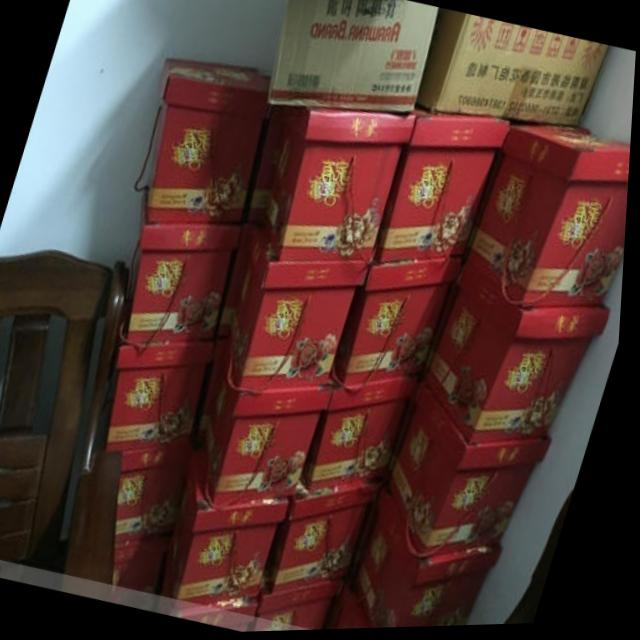box: (427, 263, 614, 448), (468, 125, 632, 309), (392, 380, 557, 560), (232, 218, 372, 395), (264, 108, 418, 265), (200, 337, 338, 508), (416, 10, 609, 131), (354, 485, 508, 631), (375, 109, 513, 265), (148, 59, 268, 226), (268, 0, 440, 114), (179, 449, 295, 608), (129, 192, 242, 346), (337, 261, 466, 387), (305, 380, 423, 493), (271, 483, 387, 596), (109, 340, 218, 453), (120, 445, 195, 545), (260, 578, 350, 633)
